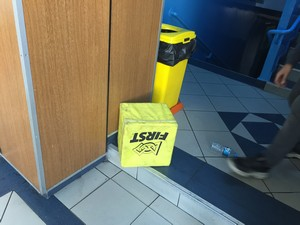cube: (117, 102, 179, 169)
